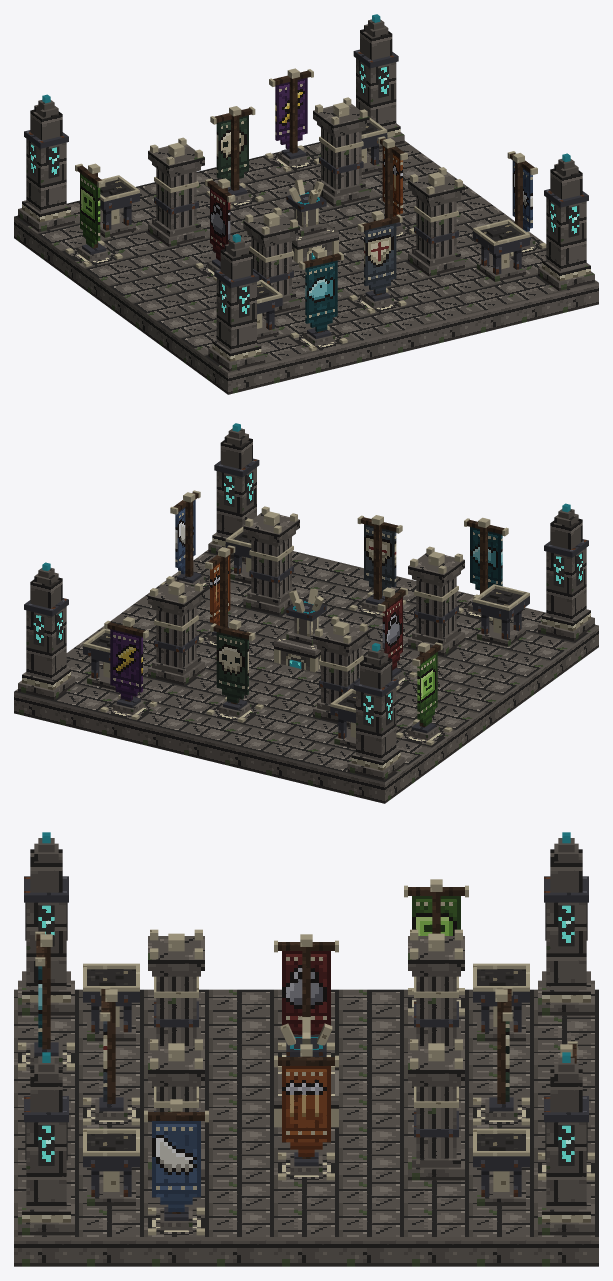
File: altar_level_4.glb
3 views of the same model, one above another, from view 1: azimuth 30°, elevation 25°; view 2: azimuth 150°, elevation 25°; view 3: azimuth 270°, elevation 25° (orthographic). The views are drawn at different scales.
Visible parts, largest first — view 1: altar_level_4:altar_brazier_on_slab@3,1,3, altar_level_4:altar_pillar_top_on_slab@-2,2,-2, altar_level_4:altar_pillar_top_on_slab@2,2,2, altar_level_4:altar_pillar_top_on_slab@2,2,-2, altar_level_4:altar_pillar_top_on_slab@-2,2,2, altar_level_4:altar_obelisk_bottom_on_slab@-4,1,4, altar_level_4:altar_pillar_bottom_on_slab@2,1,2, altar_level_4:altar_pillar_bottom_on_slab@-2,1,-2, altar_level_4:altar_obelisk_bottom_on_slab@4,1,4, altar_level_4:altar_obelisk_bottom_on_slab@-4,1,-4, altar_level_4:altar_pillar_bottom_on_slab@2,1,-2, altar_level_4:altar_obelisk_middle_on_slab@-4,2,4 (+66 smaller); view 2: altar_level_4:altar_brazier_on_slab@-3,1,3, altar_level_4:altar_pillar_top_on_slab@-2,2,2, altar_level_4:altar_pillar_top_on_slab@2,2,-2, altar_level_4:altar_pillar_top_on_slab@2,2,2, altar_level_4:altar_pillar_top_on_slab@-2,2,-2, altar_level_4:altar_obelisk_bottom_on_slab@-4,1,-4, altar_level_4:altar_pillar_bottom_on_slab@2,1,-2, altar_level_4:altar_obelisk_bottom_on_slab@4,1,-4, altar_level_4:altar_obelisk_bottom_on_slab@-4,1,4, altar_level_4:altar_pillar_bottom_on_slab@2,1,2, altar_level_4:altar_pillar_bottom_on_slab@-2,1,2, altar_level_4:altar_obelisk_middle_on_slab@-4,2,-4 (+67 smaller); view 3: altar_level_4:altar_brazier_on_slab@3,1,3, altar_level_4:altar_brazier_on_slab@3,1,-3, altar_level_4:altar_pillar_top_on_slab@-2,2,2, altar_level_4:altar_pillar_top_on_slab@-2,2,-2, altar_level_4:altar_pillar_top_on_slab@2,2,-2, altar_level_4:altar_slab@4,0,0, altar_level_4:altar_slab@4,0,1, altar_level_4:altar_slab@4,0,3, altar_level_4:altar_slab@4,0,-1, altar_level_4:altar_slab@4,0,-2, altar_level_4:altar_slab@4,0,-3, altar_level_4:altar_pillar_top_on_slab@2,2,2 (+81 smaller).
Boxes of the visible parts, x1=… form: altar_level_4:altar_brazier_on_slab@3,1,3: x1=473, y1=219, x2=529, y2=281; altar_level_4:altar_pillar_top_on_slab@-2,2,-2: x1=148, y1=137, x2=204, y2=200; altar_level_4:altar_pillar_top_on_slab@2,2,2: x1=408, y1=167, x2=464, y2=229; altar_level_4:altar_pillar_top_on_slab@2,2,-2: x1=313, y1=97, x2=369, y2=159; altar_level_4:altar_pillar_top_on_slab@-2,2,2: x1=243, y1=207, x2=299, y2=269; altar_level_4:altar_obelisk_bottom_on_slab@-4,1,4: x1=208, y1=314, x2=265, y2=371; altar_level_4:altar_pillar_bottom_on_slab@2,1,2: x1=408, y1=219, x2=464, y2=276; altar_level_4:altar_pillar_bottom_on_slab@-2,1,-2: x1=148, y1=190, x2=204, y2=246; altar_level_4:altar_obelisk_bottom_on_slab@4,1,4: x1=538, y1=234, x2=594, y2=290; altar_level_4:altar_obelisk_bottom_on_slab@-4,1,-4: x1=18, y1=175, x2=74, y2=231; altar_level_4:altar_pillar_bottom_on_slab@2,1,-2: x1=313, y1=149, x2=369, y2=206; altar_level_4:altar_obelisk_middle_on_slab@-4,2,4: x1=214, y1=269, x2=259, y2=324; altar_level_4:altar_brazier_on_slab@-3,1,3: x1=473, y1=584, x2=529, y2=646; altar_level_4:altar_pillar_top_on_slab@-2,2,2: x1=408, y1=546, x2=464, y2=609; altar_level_4:altar_pillar_top_on_slab@2,2,-2: x1=148, y1=576, x2=204, y2=638; altar_level_4:altar_pillar_top_on_slab@2,2,2: x1=243, y1=506, x2=299, y2=568; altar_level_4:altar_pillar_top_on_slab@-2,2,-2: x1=313, y1=616, x2=369, y2=678; altar_level_4:altar_obelisk_bottom_on_slab@-4,1,-4: x1=347, y1=723, x2=404, y2=780; altar_level_4:altar_pillar_bottom_on_slab@2,1,-2: x1=148, y1=628, x2=204, y2=685; altar_level_4:altar_obelisk_bottom_on_slab@4,1,-4: x1=18, y1=643, x2=74, y2=699; altar_level_4:altar_obelisk_bottom_on_slab@-4,1,4: x1=538, y1=584, x2=594, y2=640; altar_level_4:altar_pillar_bottom_on_slab@2,1,2: x1=243, y1=558, x2=299, y2=615; altar_level_4:altar_pillar_bottom_on_slab@-2,1,2: x1=408, y1=599, x2=464, y2=655; altar_level_4:altar_obelisk_middle_on_slab@-4,2,-4: x1=353, y1=678, x2=398, y2=733; altar_level_4:altar_brazier_on_slab@3,1,3: x1=83, y1=1128, x2=139, y2=1205; altar_level_4:altar_brazier_on_slab@3,1,-3: x1=473, y1=1128, x2=529, y2=1205; altar_level_4:altar_pillar_top_on_slab@-2,2,2: x1=148, y1=929, x2=204, y2=1008; altar_level_4:altar_pillar_top_on_slab@-2,2,-2: x1=408, y1=929, x2=464, y2=1008; altar_level_4:altar_pillar_top_on_slab@2,2,-2: x1=408, y1=1039, x2=464, y2=1117; altar_level_4:altar_slab@4,0,0: x1=274, y1=1209, x2=338, y2=1266; altar_level_4:altar_slab@4,0,1: x1=209, y1=1209, x2=273, y2=1266; altar_level_4:altar_slab@4,0,3: x1=79, y1=1209, x2=143, y2=1266; altar_level_4:altar_slab@4,0,-1: x1=339, y1=1209, x2=403, y2=1266; altar_level_4:altar_slab@4,0,-2: x1=404, y1=1209, x2=468, y2=1266; altar_level_4:altar_slab@4,0,-3: x1=469, y1=1209, x2=533, y2=1266; altar_level_4:altar_pillar_top_on_slab@2,2,2: x1=148, y1=1039, x2=204, y2=1111.
Size of the model in its own units: 9 by 3.38 by 9.
33 materials, 33 textured.
